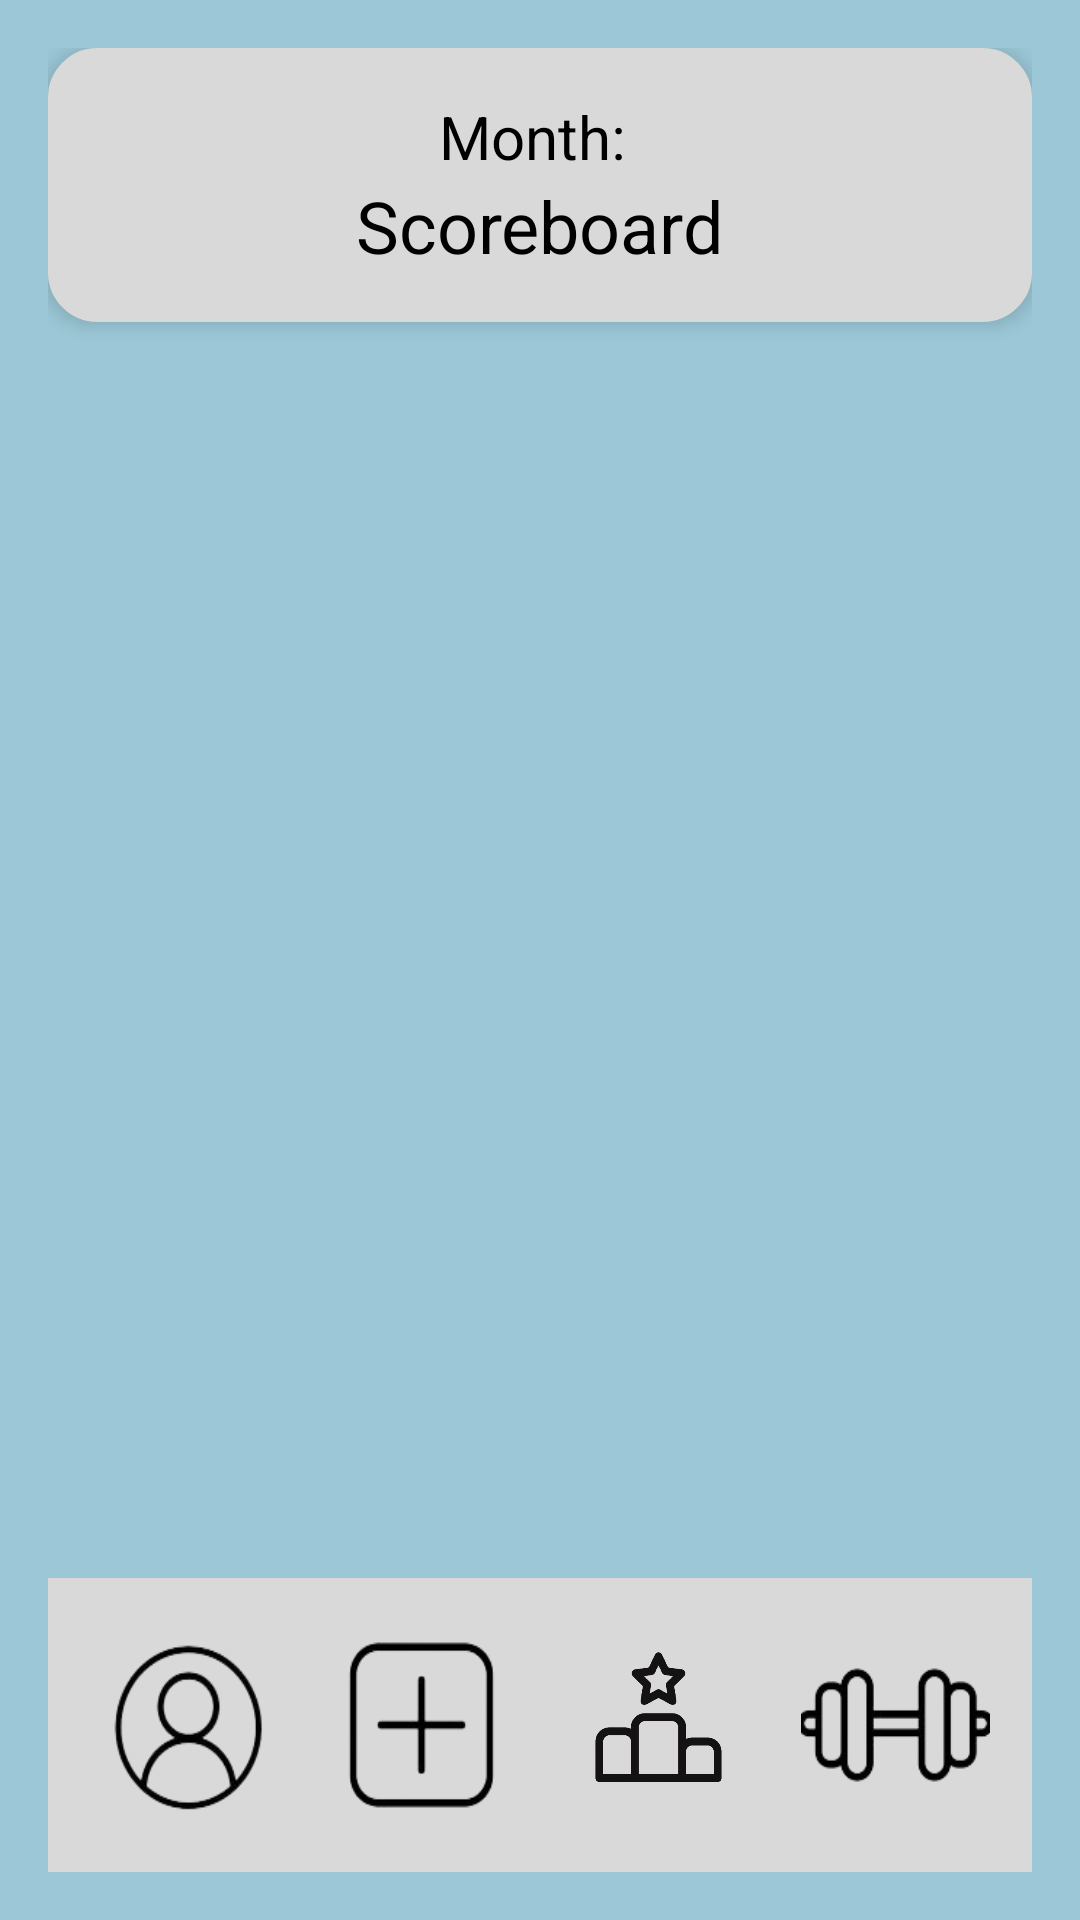

Screen size 1080px×1920px. Icon name, then its center in pixels as (x=x, y=y):
add: (x=421, y=1725)
dumble: (x=895, y=1725)
personal: (x=188, y=1727)
scoreboard: (x=658, y=1717)
